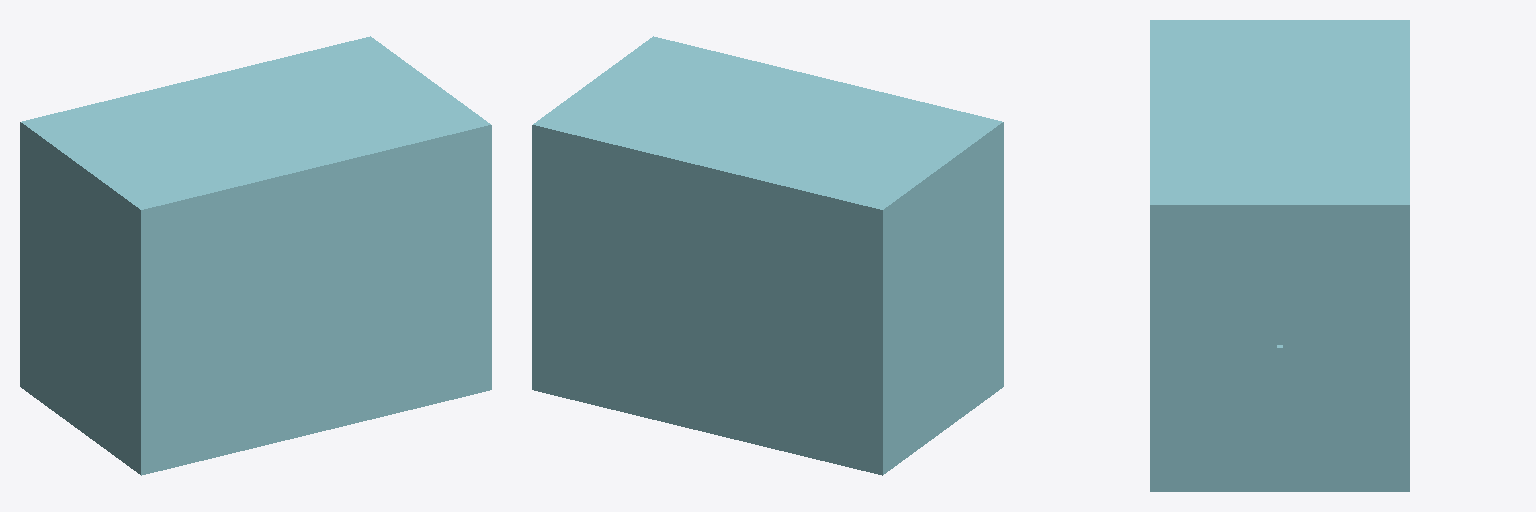
robot.urdf — cuboid_eraser_v7012:
<?xml version="1.0"?>
<robot name="cuboid_eraser_v7012">

  <link name="cuboid_eraser_v7012">
    <!-- Handle -->
    <visual>
      <origin xyz="0 0 0" rpy="0 0 0"/>
      <geometry>
        <box size="0.07141350247999298 0.04266399582500817 0.051727013247589854"/>
      </geometry>
      <material name="material">
        <color rgba="0.639 0.847 0.882 1.0"/>
      </material>
    </visual>
    <collision>
      <origin xyz="0 0 0" rpy="0 0 0"/>
      <geometry>
        <box size="0.07141350247999298 0.04266399582500817 0.051727013247589854"/>
      </geometry>
    </collision>

    <!-- Head -->
    <visual>
      <origin xyz="0.03620675123999649 0 0" rpy="0 0 0"/>
      <geometry>
        <box size="0.001 0.001 0.001"/>
      </geometry>
      <material name="material">
        <color rgba="0.639 0.847 0.882 1.0"/>
      </material>
    </visual>
    <collision>
      <origin xyz="0.03620675123999649 0 0" rpy="0 0 0"/>
      <geometry>
        <box size="0.001 0.001 0.001"/>
      </geometry>
    </collision>

    <inertial>
      <density value="400.0"/>
    </inertial>
  </link>

</robot>

--- What the picture shows (computed from the rendered views, not written in the file) ---
3 views of the same robot in one strip: view 1: azimuth 30°, elevation 25°; view 2: azimuth 150°, elevation 25°; view 3: azimuth 270°, elevation 25° (orthographic).
Robot: cuboid_eraser_v7012 — 1 links, 0 joints (none); root link cuboid_eraser_v7012; default pose: all joints at 0.
Links seen in each view (by area): view 1: cuboid_eraser_v7012; view 2: cuboid_eraser_v7012; view 3: cuboid_eraser_v7012.
Boxes of the visible links, x1=… form: cuboid_eraser_v7012: x1=20, y1=36, x2=491, y2=475; cuboid_eraser_v7012: x1=532, y1=36, x2=1003, y2=475; cuboid_eraser_v7012: x1=1150, y1=20, x2=1409, y2=491.
Bounding box of the posed robot: 0.0724 × 0.0427 × 0.0517 m (x, y, z).
Geometry: primitives only (box / cylinder / sphere), no mesh files.
